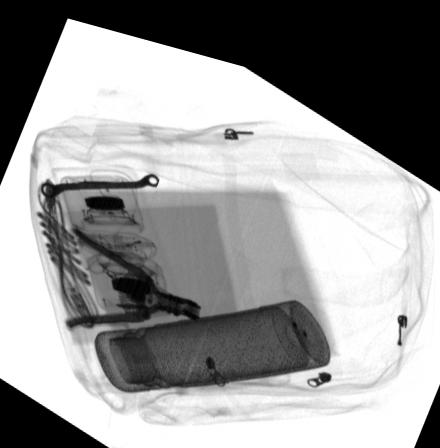Pliers: (64, 220, 204, 326)
Wrench: (40, 163, 160, 196)
